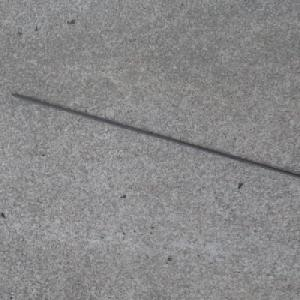LuggagePart: (10, 92, 300, 177)
